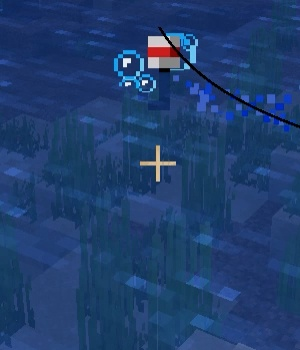up: (139, 32, 195, 115)
